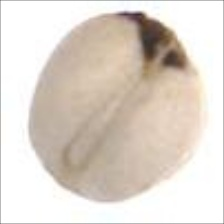L5: (59, 66, 157, 177), (113, 9, 200, 79), (39, 160, 111, 207)
L6: (24, 9, 206, 206)
